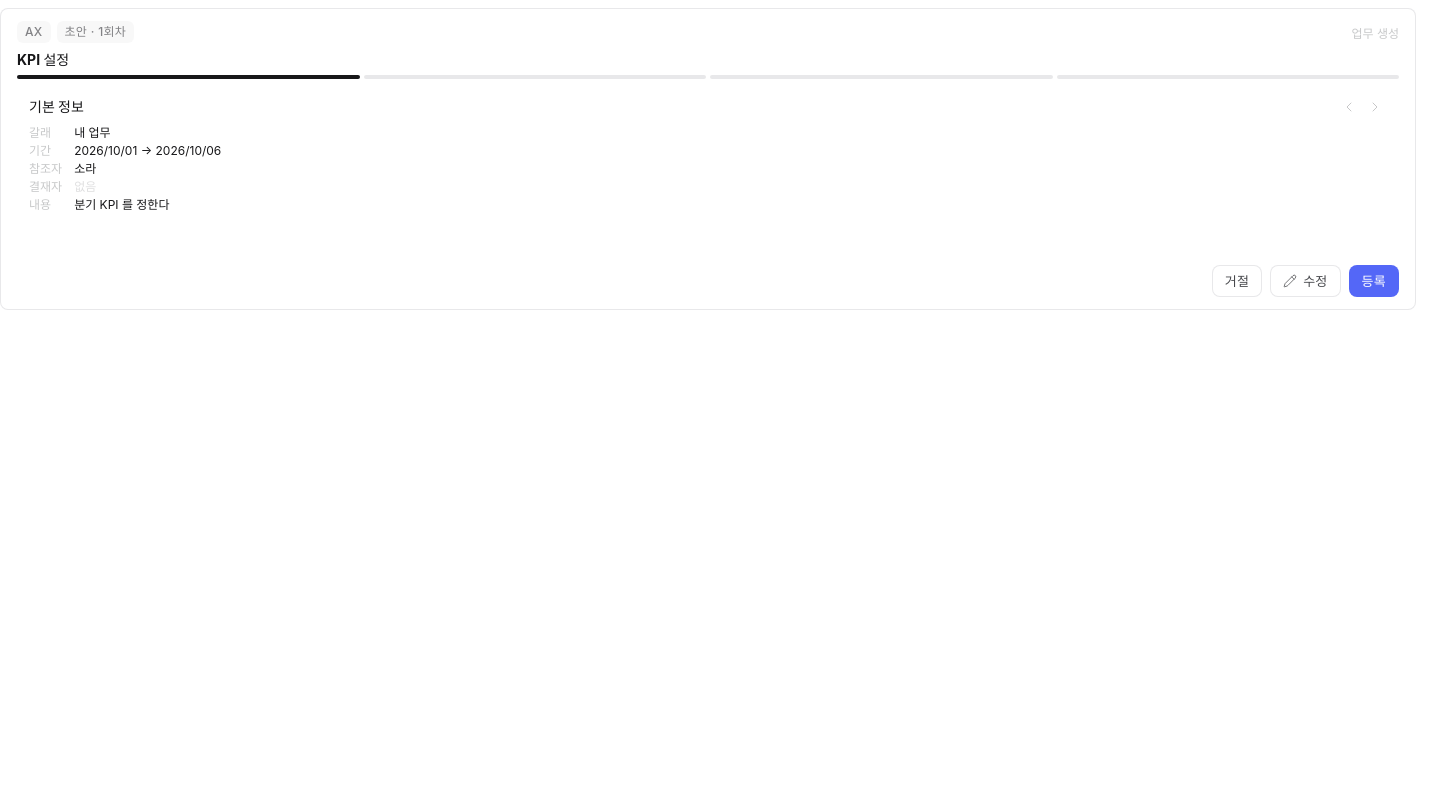
Test: AX 초안 요약 카드 — [수정] = 「새 업무 추가」 창 › 창을 닫으면 고친 것을 버린다 — 카드는 초안 그대로이고 아무것도 보내지 않는다
Click the button "수정" at (1305, 281), box [1270,265,1341,297]
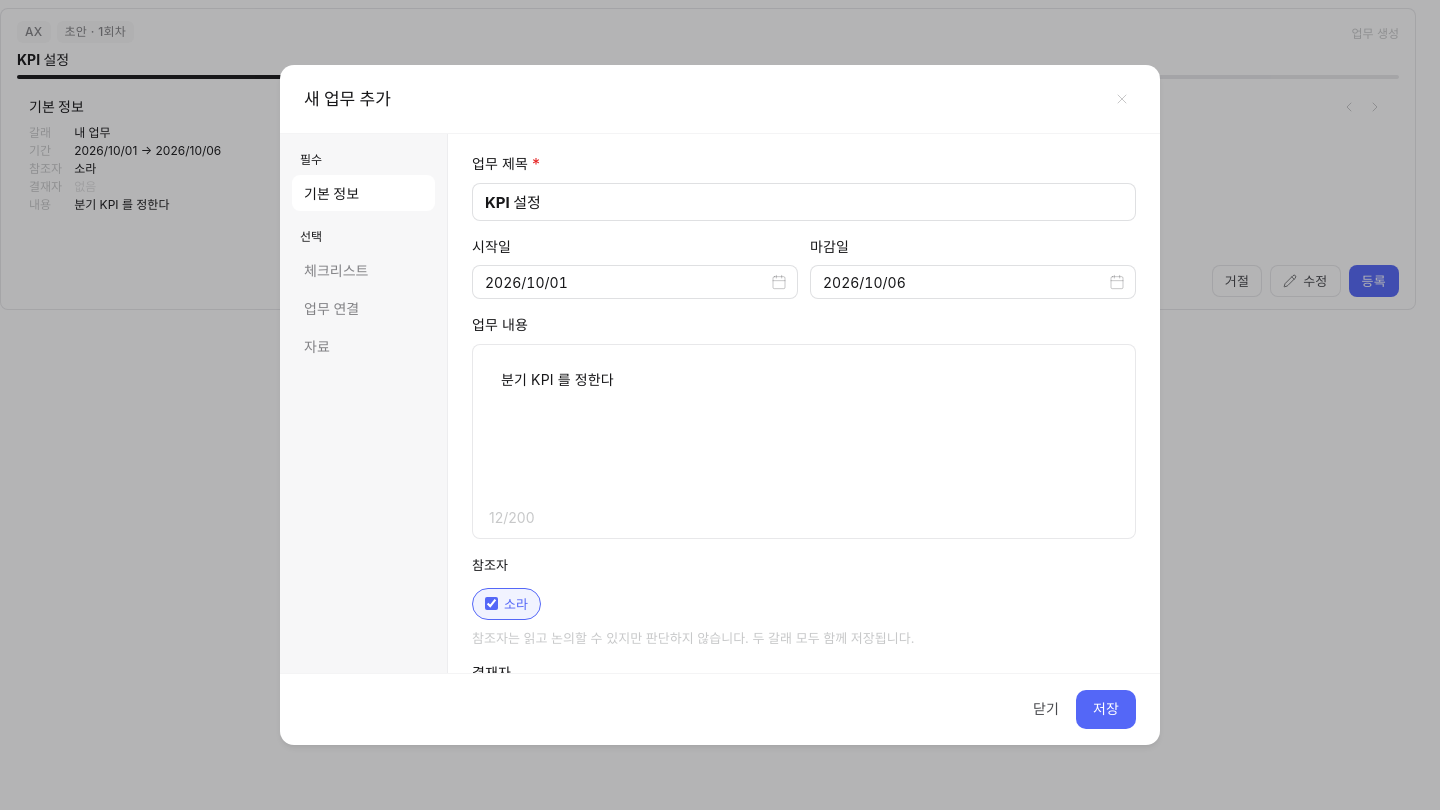
Replace the text in the field labelled "업무 제목" with "버릴 제목" at (804, 202), box [472,182,1136,220]
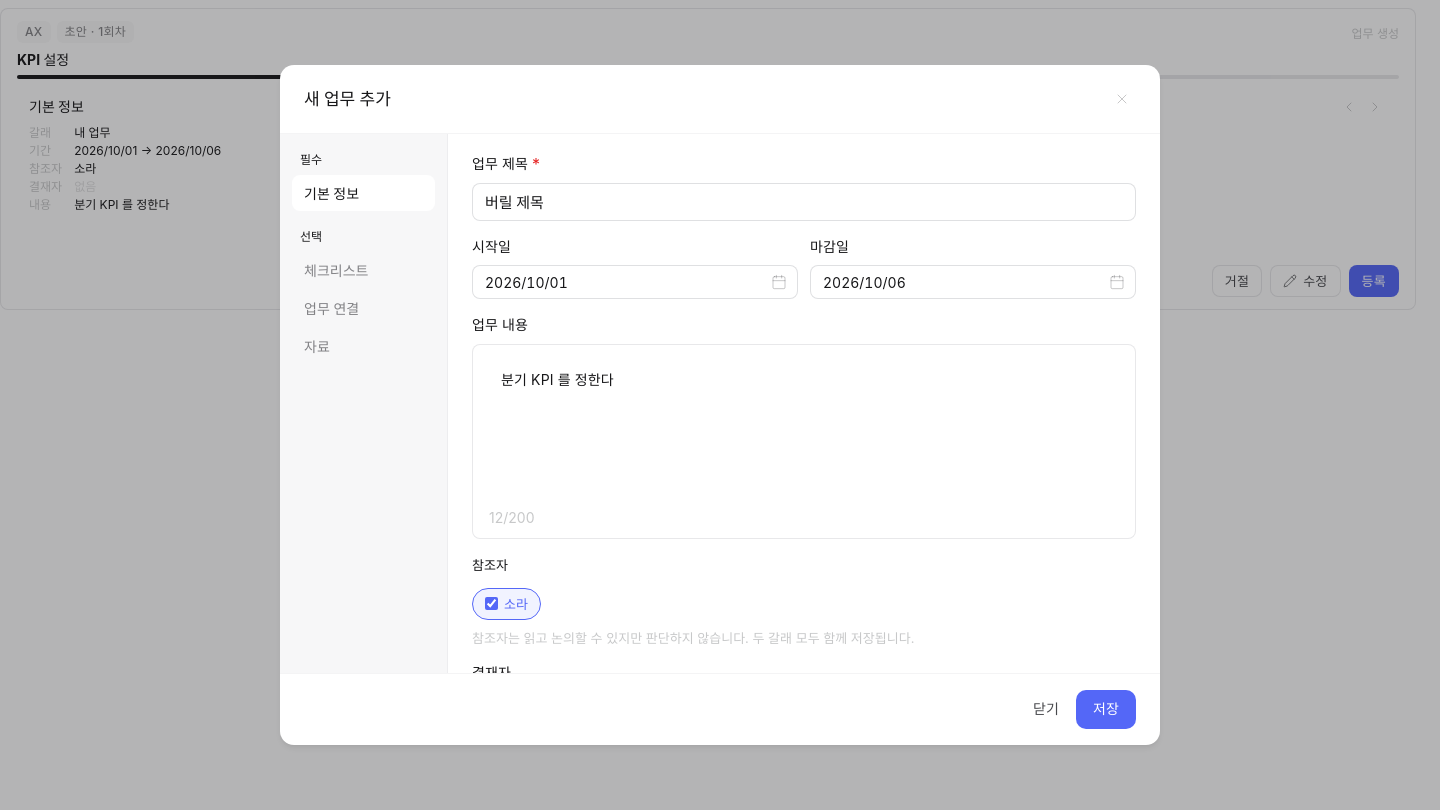
Click the button "닫기" at (1046, 710), box [1024,690,1068,729]
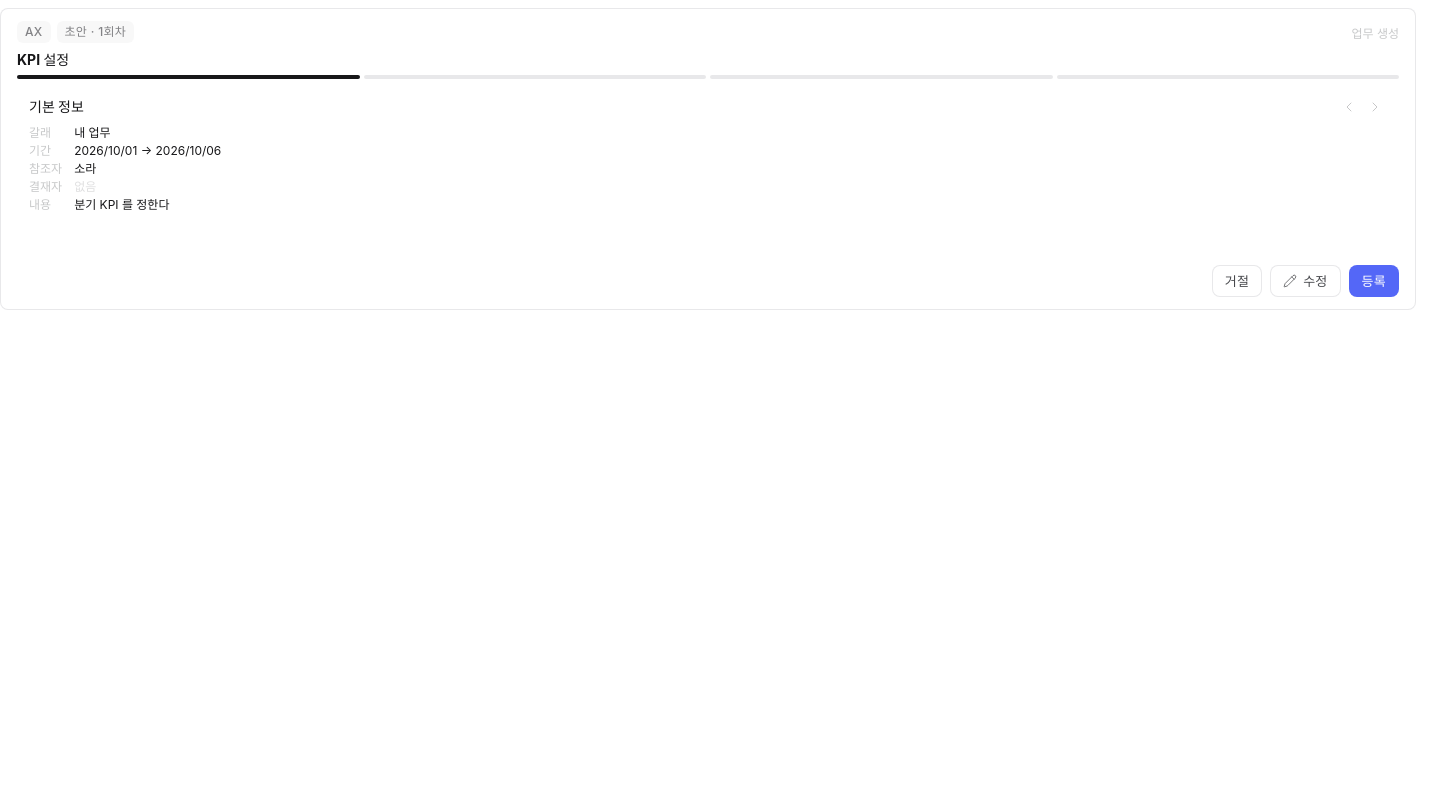
Check: the text "KPI 설정" is shown, box [17,51,69,68]
Check: the heading "새 업무 추가" is gone
다시 열면 초안 값으로 다시 선다.
Click the button "수정" at (1305, 281), box [1270,265,1341,297]
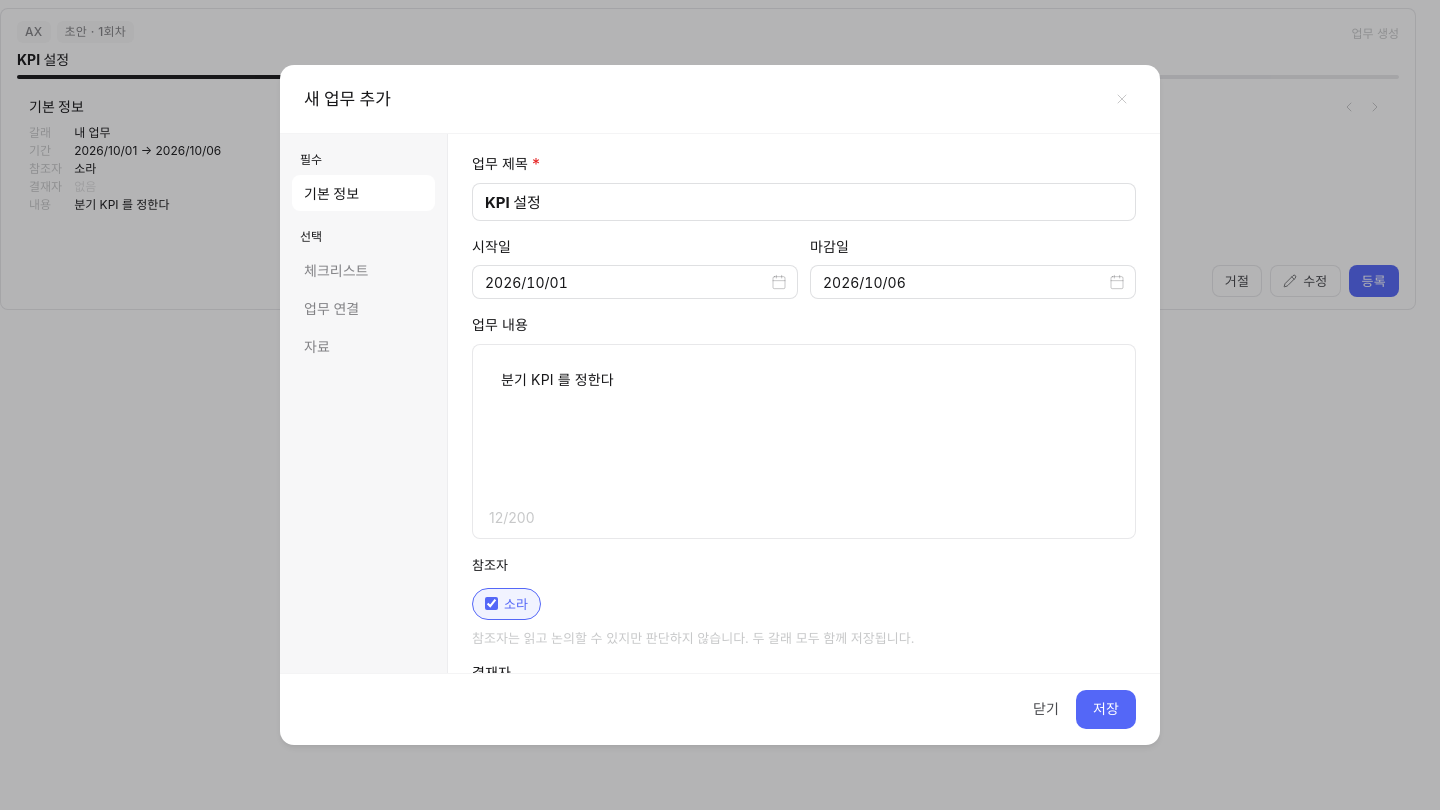
Check: the field labelled "업무 제목" holds "KPI 설정", box [472,182,1136,220]
